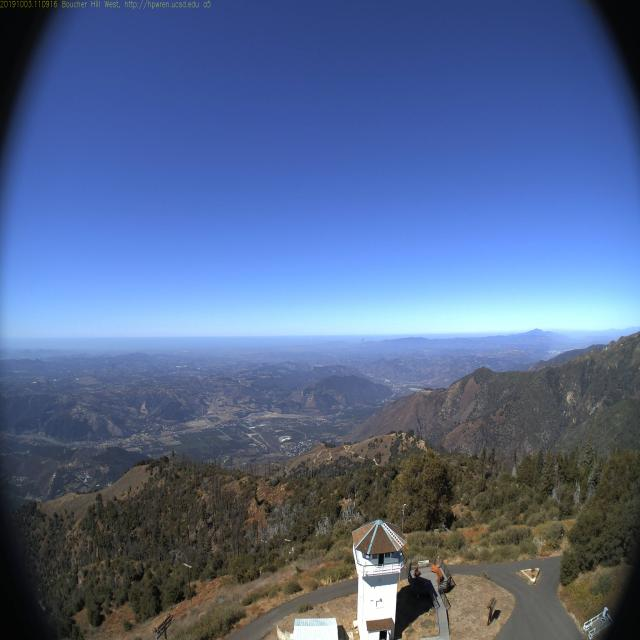smoke: (357, 335, 367, 353)
